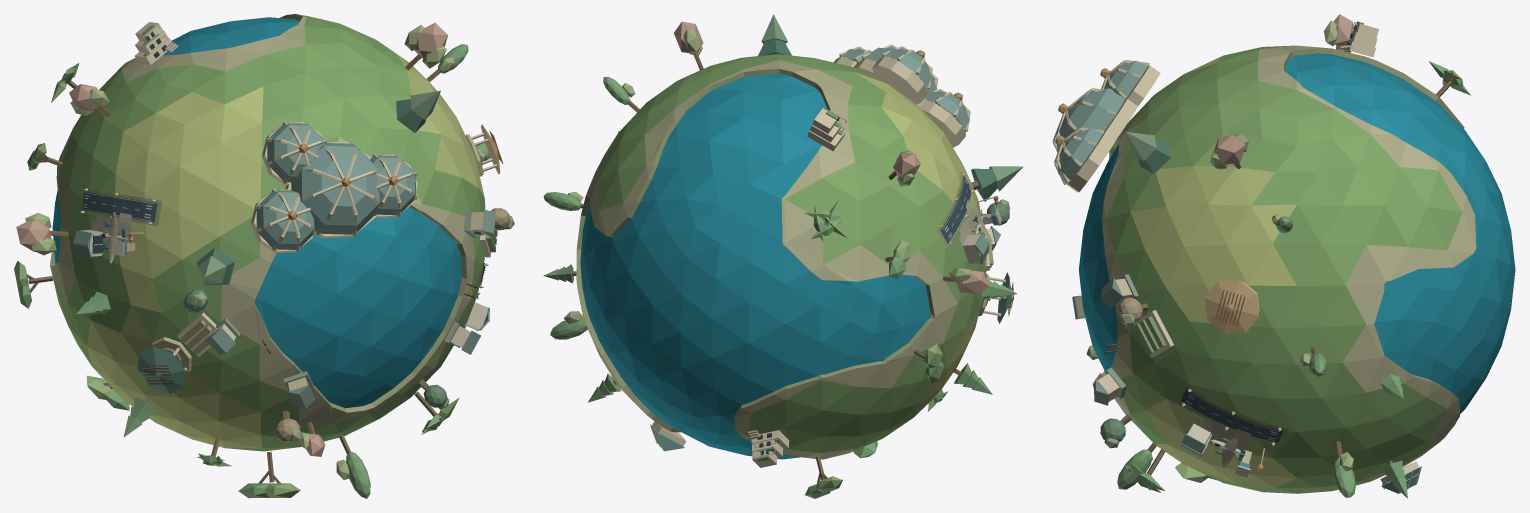
Rendered from earth-mobile.glb.
3 renders of one model, left to right at view 1: azimuth 30°, elevation 25°; view 2: azimuth 150°, elevation 25°; view 3: azimuth 270°, elevation 25°, orthographic. The views are drawn at different scales.
Parts seen in each view (by area): view 1: Terrain • modeled surfaces, Structures • modeled surfaces, Activity_regional-plane_stops • modeled surfaces; view 2: Terrain • modeled surfaces, Structures • modeled surfaces, Activity_regional-plane_stops • modeled surfaces; view 3: Terrain • modeled surfaces, Structures • modeled surfaces, Activity_regional-plane_stops • modeled surfaces.
Boxes of the visible parts, box(x1,y1,x2,y2) form: Terrain • modeled surfaces: box(50, 14, 485, 451); Structures • modeled surfaces: box(14, 22, 514, 498); Activity_regional-plane_stops • modeled surfaces: box(73, 188, 489, 330); Terrain • modeled surfaces: box(576, 54, 986, 459); Structures • modeled surfaces: box(543, 14, 1023, 498); Activity_regional-plane_stops • modeled surfaces: box(936, 171, 1001, 263); Terrain • modeled surfaces: box(1079, 45, 1515, 493); Structures • modeled surfaces: box(1052, 14, 1470, 498); Activity_regional-plane_stops • modeled surfaces: box(1177, 384, 1288, 477).
Size of the model in its own units: 2.54 by 2.18 by 2.09.
